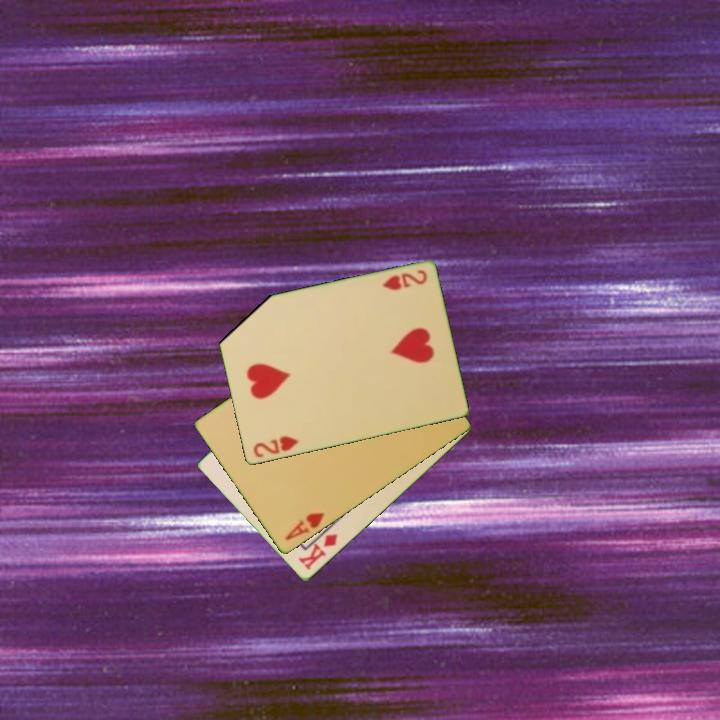2h: (249, 432, 301, 461), (379, 267, 430, 294)
Ah: (282, 509, 327, 544)
Kd: (295, 530, 340, 573)
